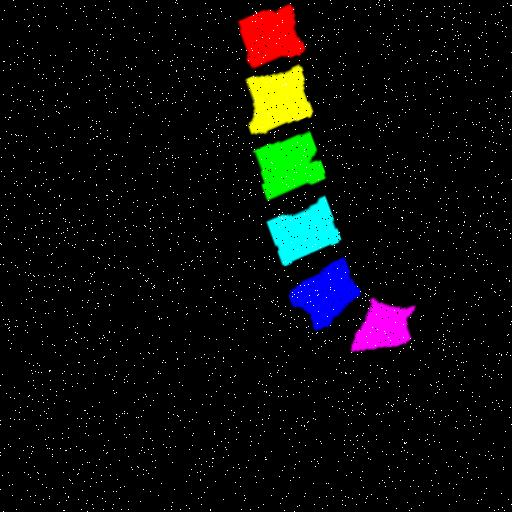L1: (240, 11, 307, 74)
L2: (247, 71, 314, 138)
L3: (252, 138, 325, 205)
L4: (267, 203, 341, 271)
L5: (288, 263, 359, 336)
S1: (351, 306, 414, 359)
